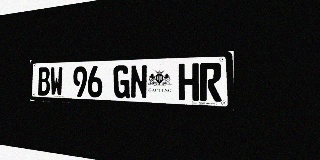6: (88, 66, 102, 98)
9: (73, 66, 87, 97)
B: (38, 67, 50, 96)
G: (113, 65, 130, 99)
H: (178, 63, 199, 101)
N: (130, 65, 147, 99)
R: (200, 63, 222, 102)
W: (50, 67, 63, 96)
